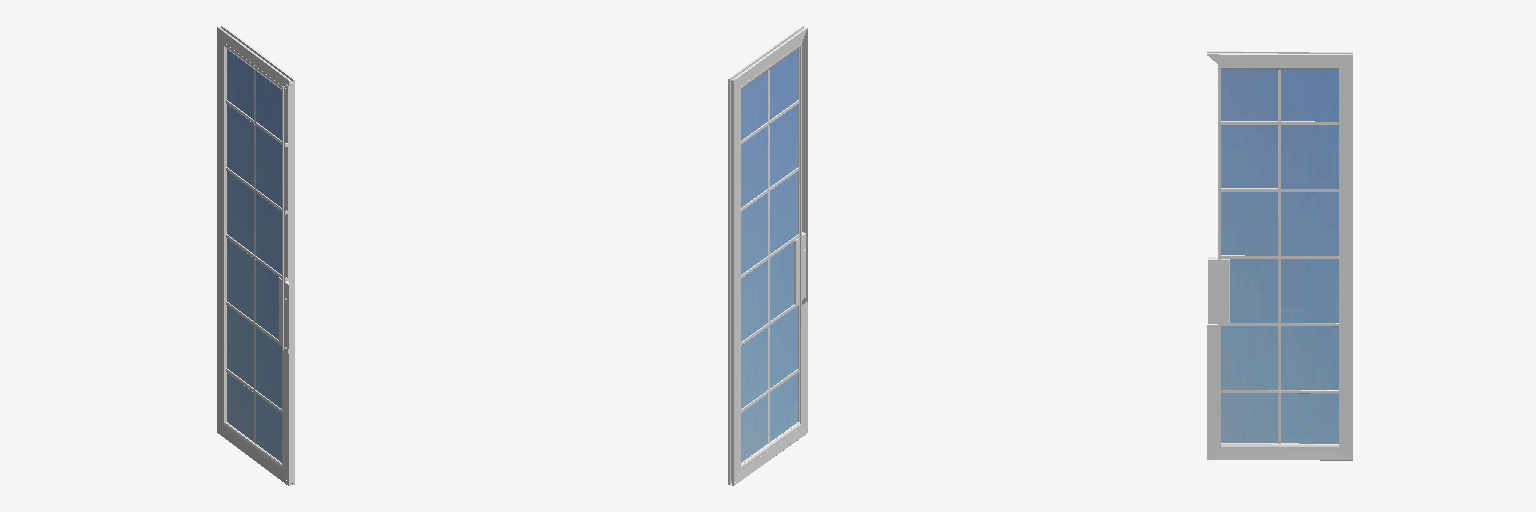
3 renders of one model, left to right at view 1: azimuth 30°, elevation 25°; view 2: azimuth 150°, elevation 25°; view 3: azimuth 270°, elevation 25°, orthographic.
Visible parts, largest first — view 1: Box2661; view 2: Box2661; view 3: Box2661.
Part boxes in pixels (bbox=[...]): Box2661: bbox=[217, 26, 294, 485]; Box2661: bbox=[728, 26, 807, 485]; Box2661: bbox=[1207, 51, 1352, 460].
Size of the model in its own units: 0.0168 by 0.9161 by 0.2986.
2 materials, 2 textured.